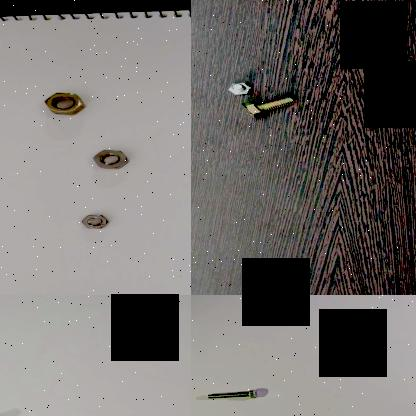Bolts: (240, 94, 296, 122), (201, 384, 261, 402), (223, 79, 254, 97)
NUTS: (29, 84, 97, 120), (81, 136, 142, 176), (66, 203, 118, 233)
